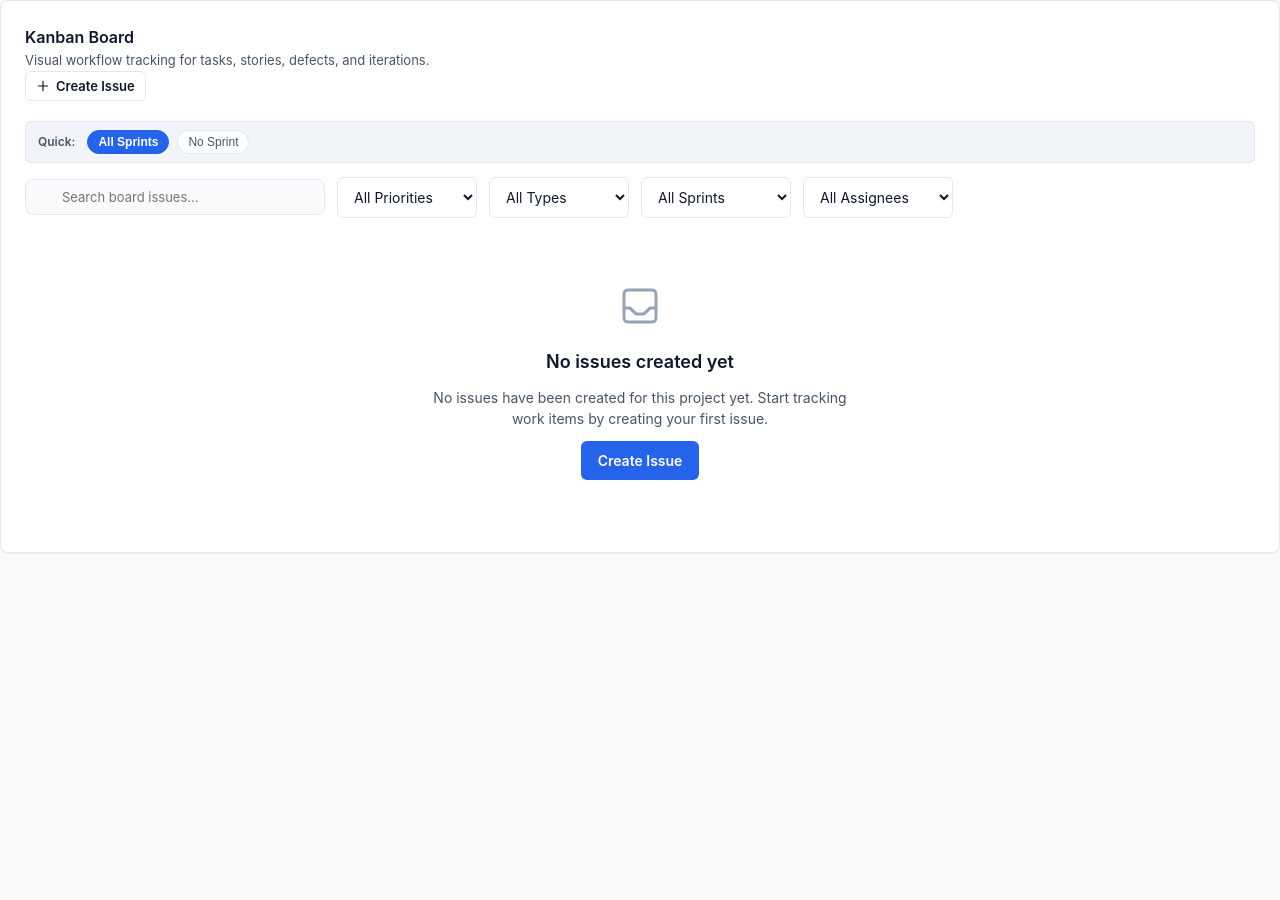
Test: KanbanBoard Component › opens create modal, creates an issue, and adds it to the board
This screenshot has width=1280, height=900.
Expected: the heading "No issues created yet" is shown, [546,348,734,374]
Click the button with id "btn-create-kanban-issue" at (85,86), box [25,70,146,100]
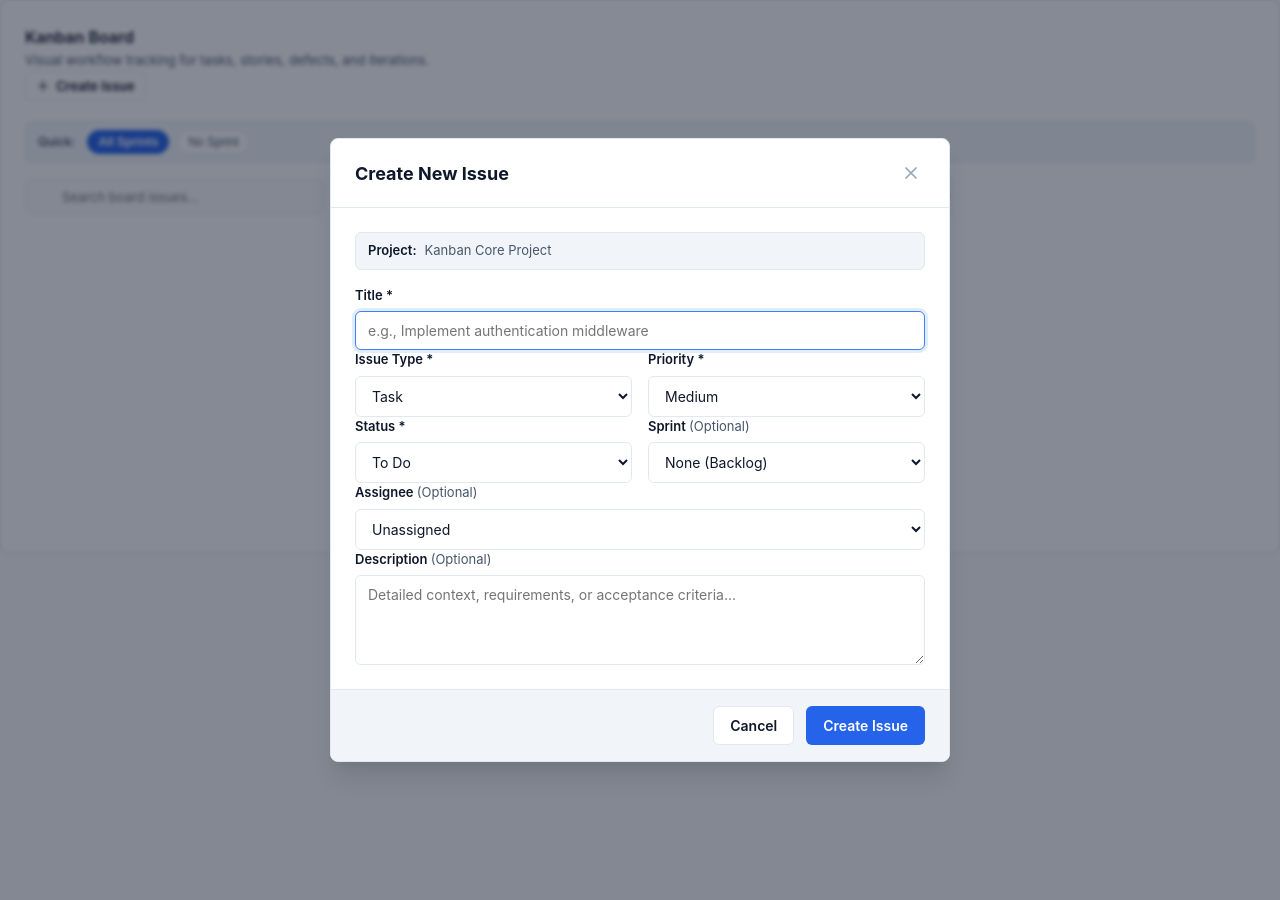
Result: the heading "Create New Issue" is shown at [355,160,509,186]
Type "New Kanban Issue" into the field with id "issue-title" at (640,330), box [355,311,925,350]
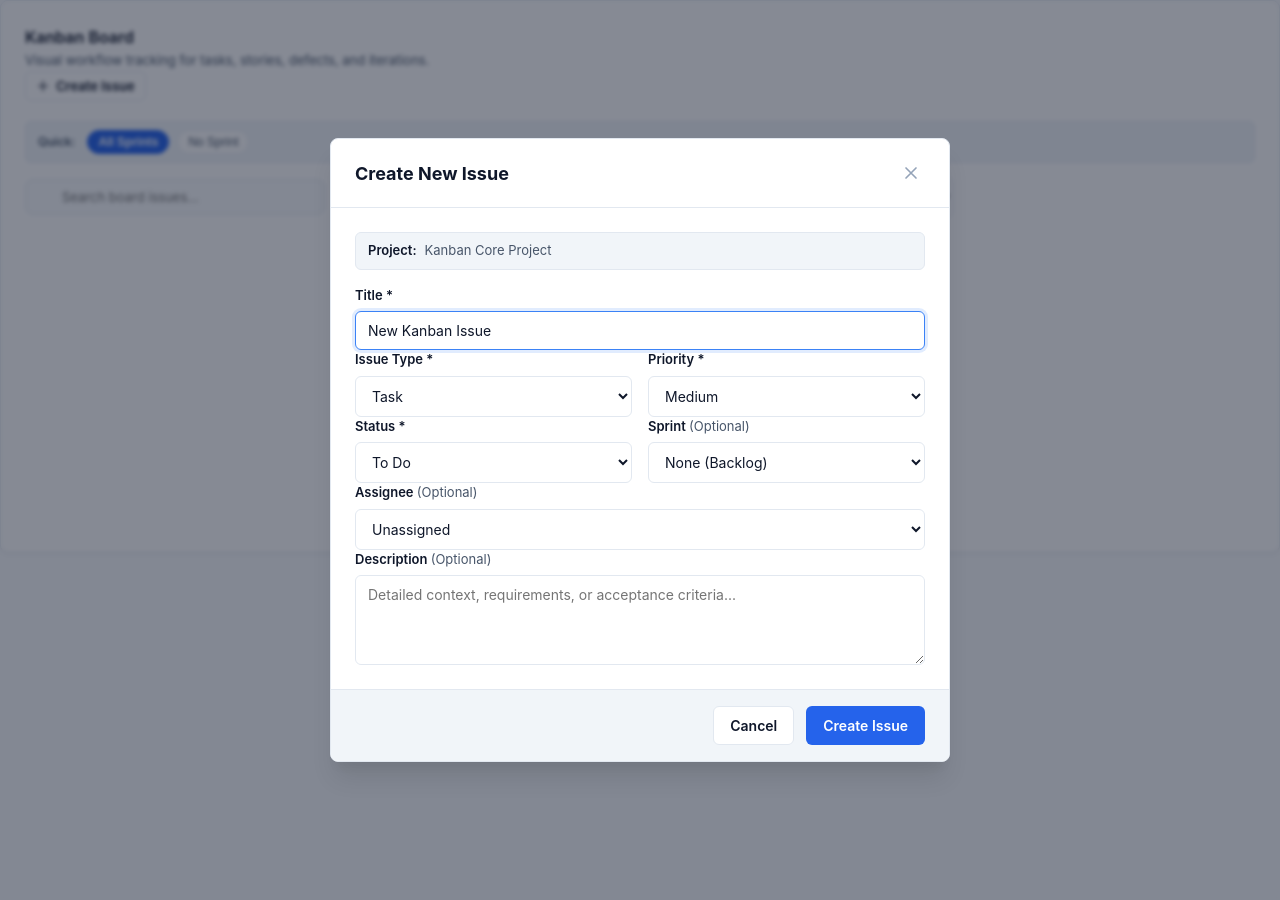
Click the button "Create Issue" at (866,726), box [806,706,925,745]
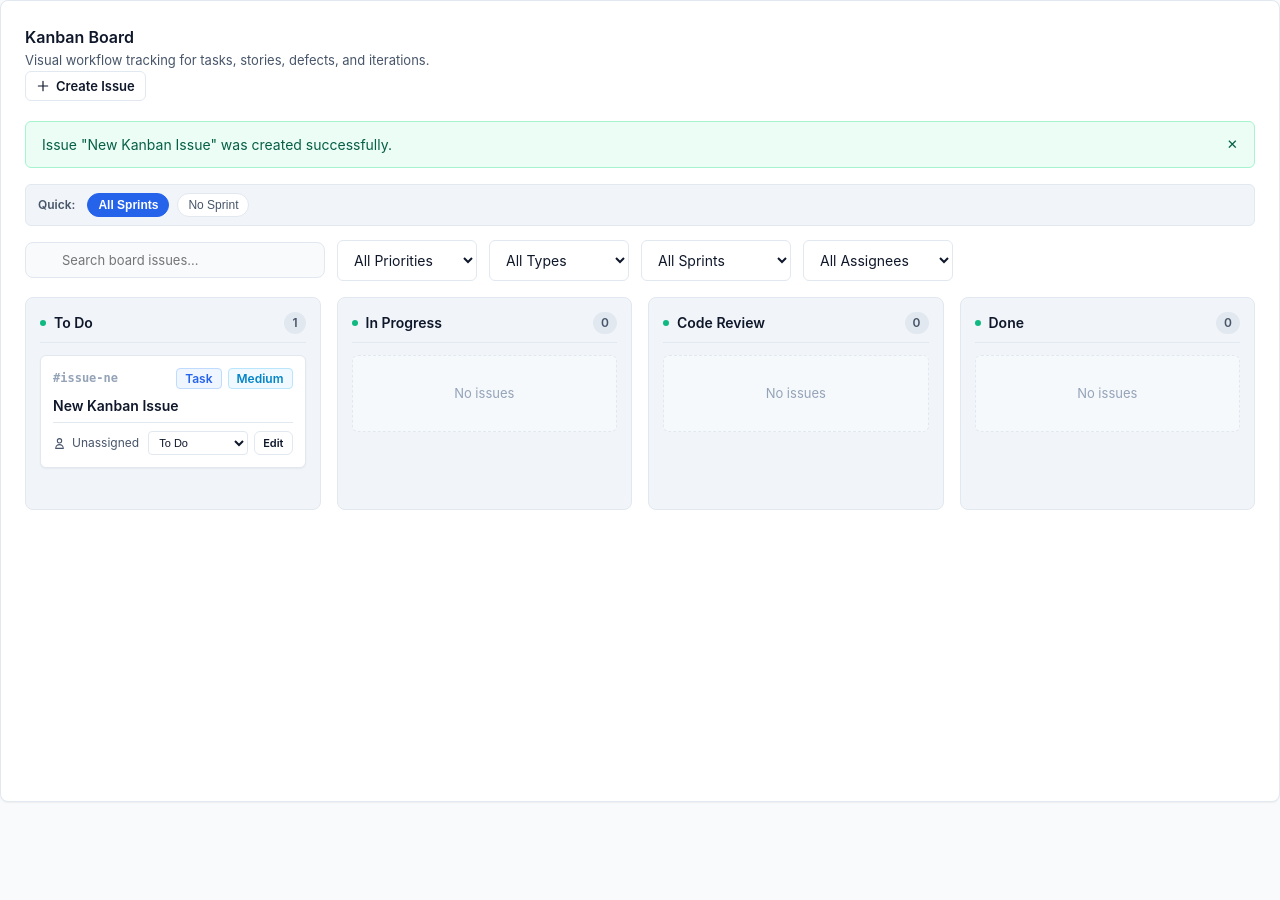
Result: the link "New Kanban Issue" is shown at [53,397,178,414]
